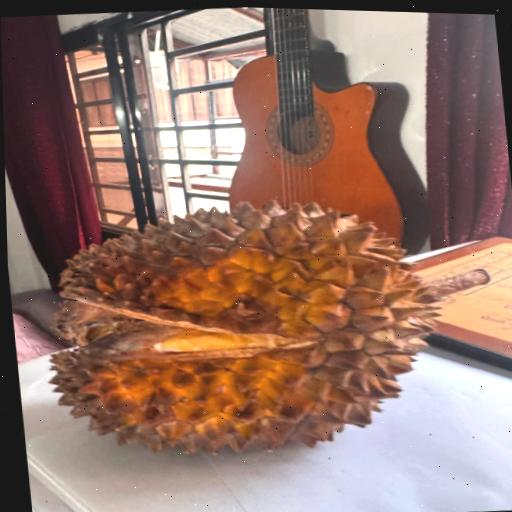rot: (4, 149, 512, 501)
